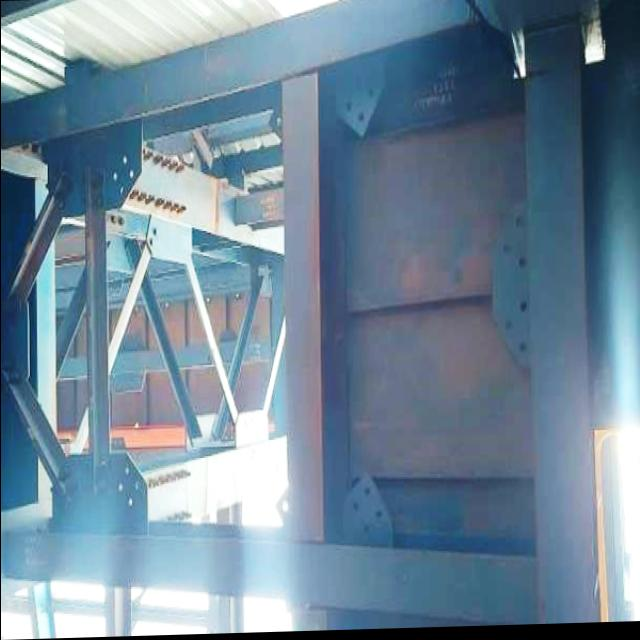Missing bolt: (504, 322, 514, 334), (363, 487, 372, 500), (126, 497, 134, 511), (134, 482, 142, 496), (362, 526, 370, 537), (518, 345, 526, 356), (127, 169, 135, 180), (125, 467, 132, 479), (118, 481, 124, 493), (122, 155, 128, 167), (502, 247, 509, 257), (521, 306, 527, 317), (376, 511, 382, 521), (520, 261, 526, 271), (113, 172, 119, 182), (120, 187, 125, 197)
